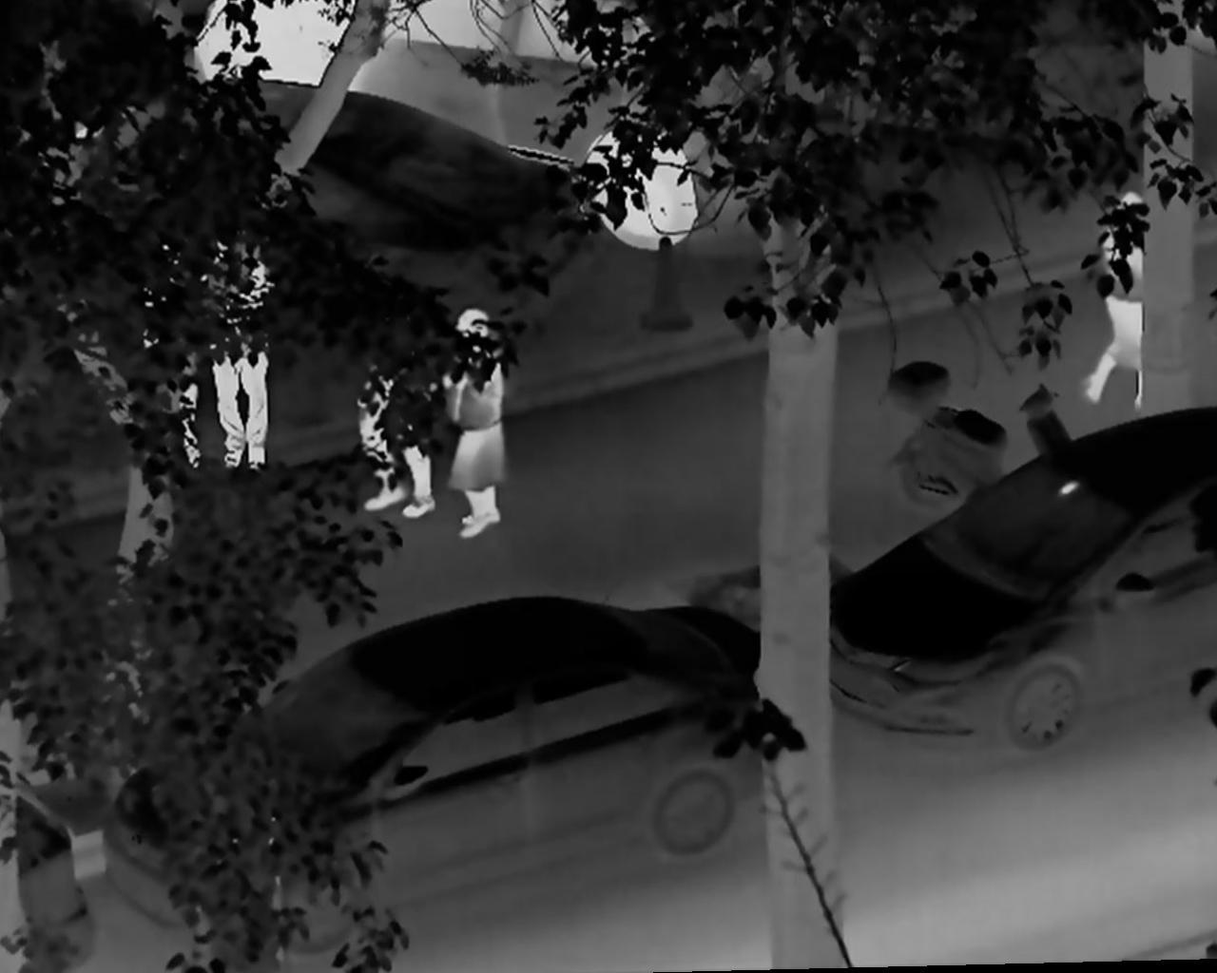person: (337, 302, 442, 524), (195, 228, 280, 475), (431, 299, 516, 544), (1082, 184, 1153, 414)
